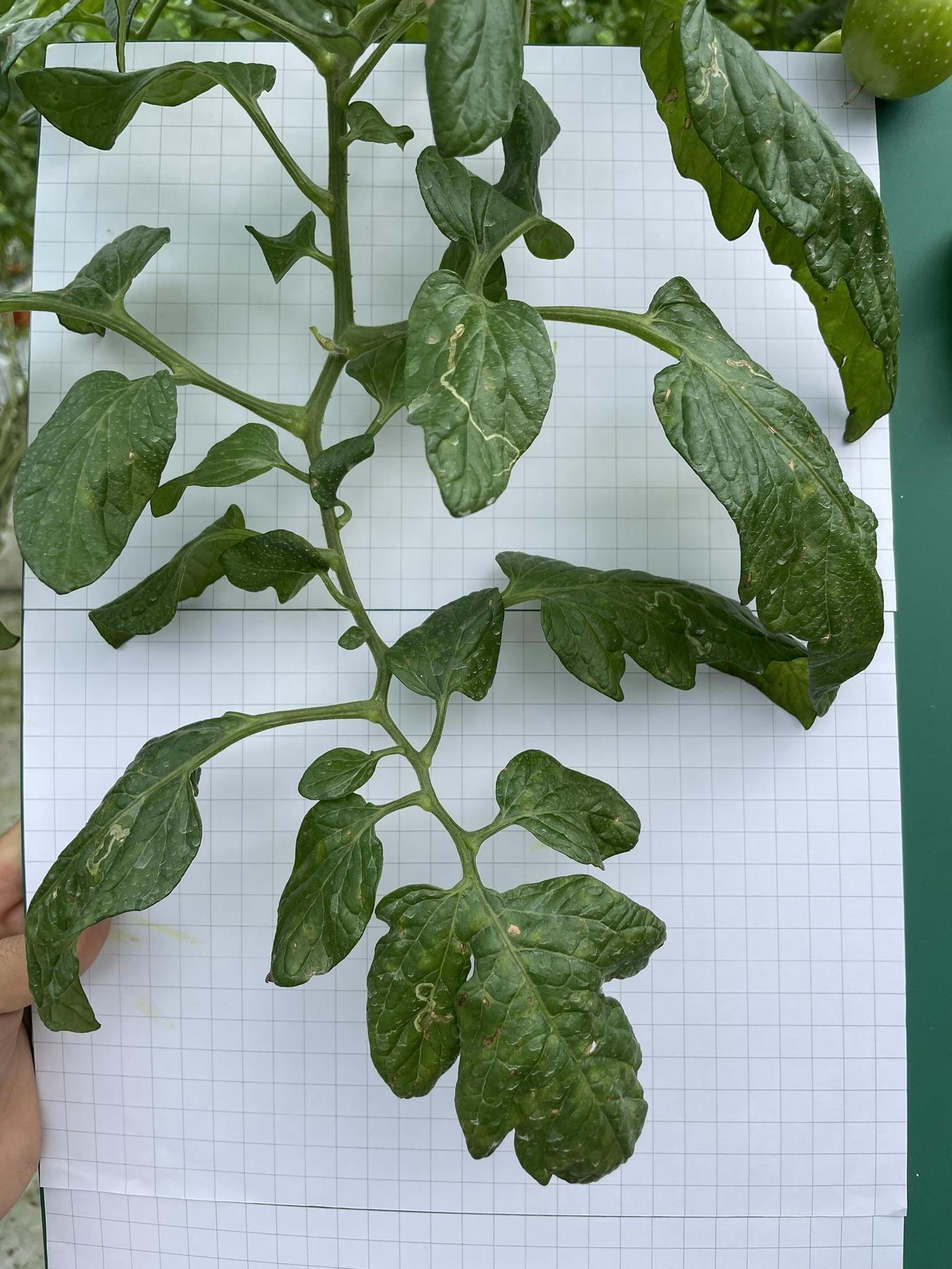Healthy: (423, 0, 524, 155)
Leaf_Miner: (638, 0, 899, 441), (648, 273, 886, 719), (366, 872, 668, 1187), (24, 708, 249, 1035), (494, 549, 820, 731), (402, 266, 555, 521)
